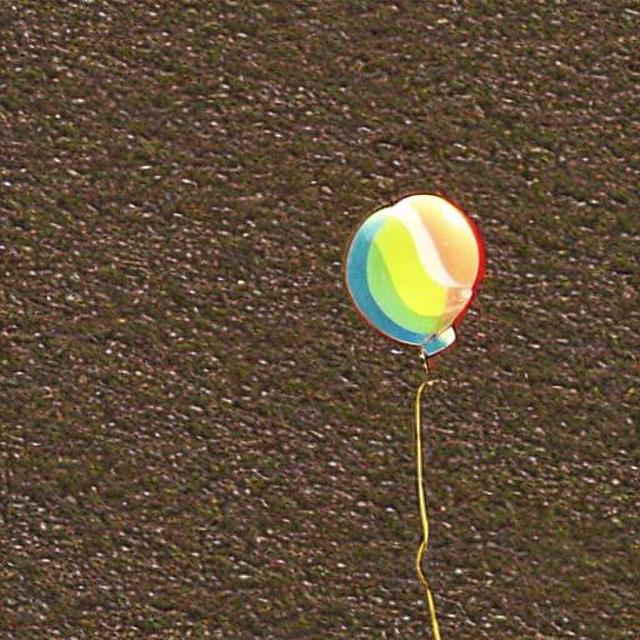balloon: (338, 192, 482, 351)
